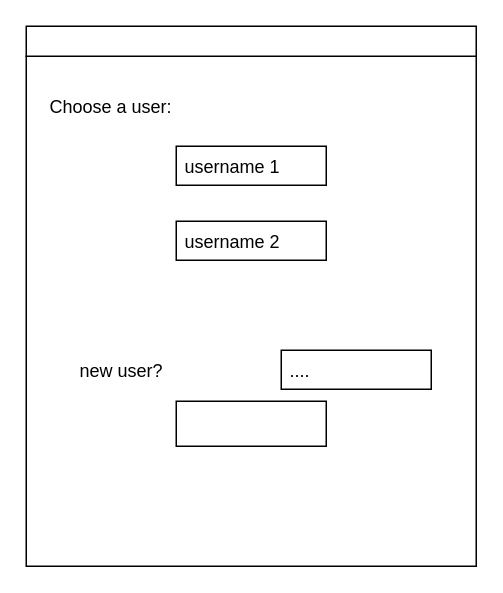
The diagram is 503 pixels wide and 593 high, and some of its shapes have lost their labels. The centre of each missing label's shape, as x and y in pixels:
Create and play: the point at 250,423
new game: the point at 250,40
